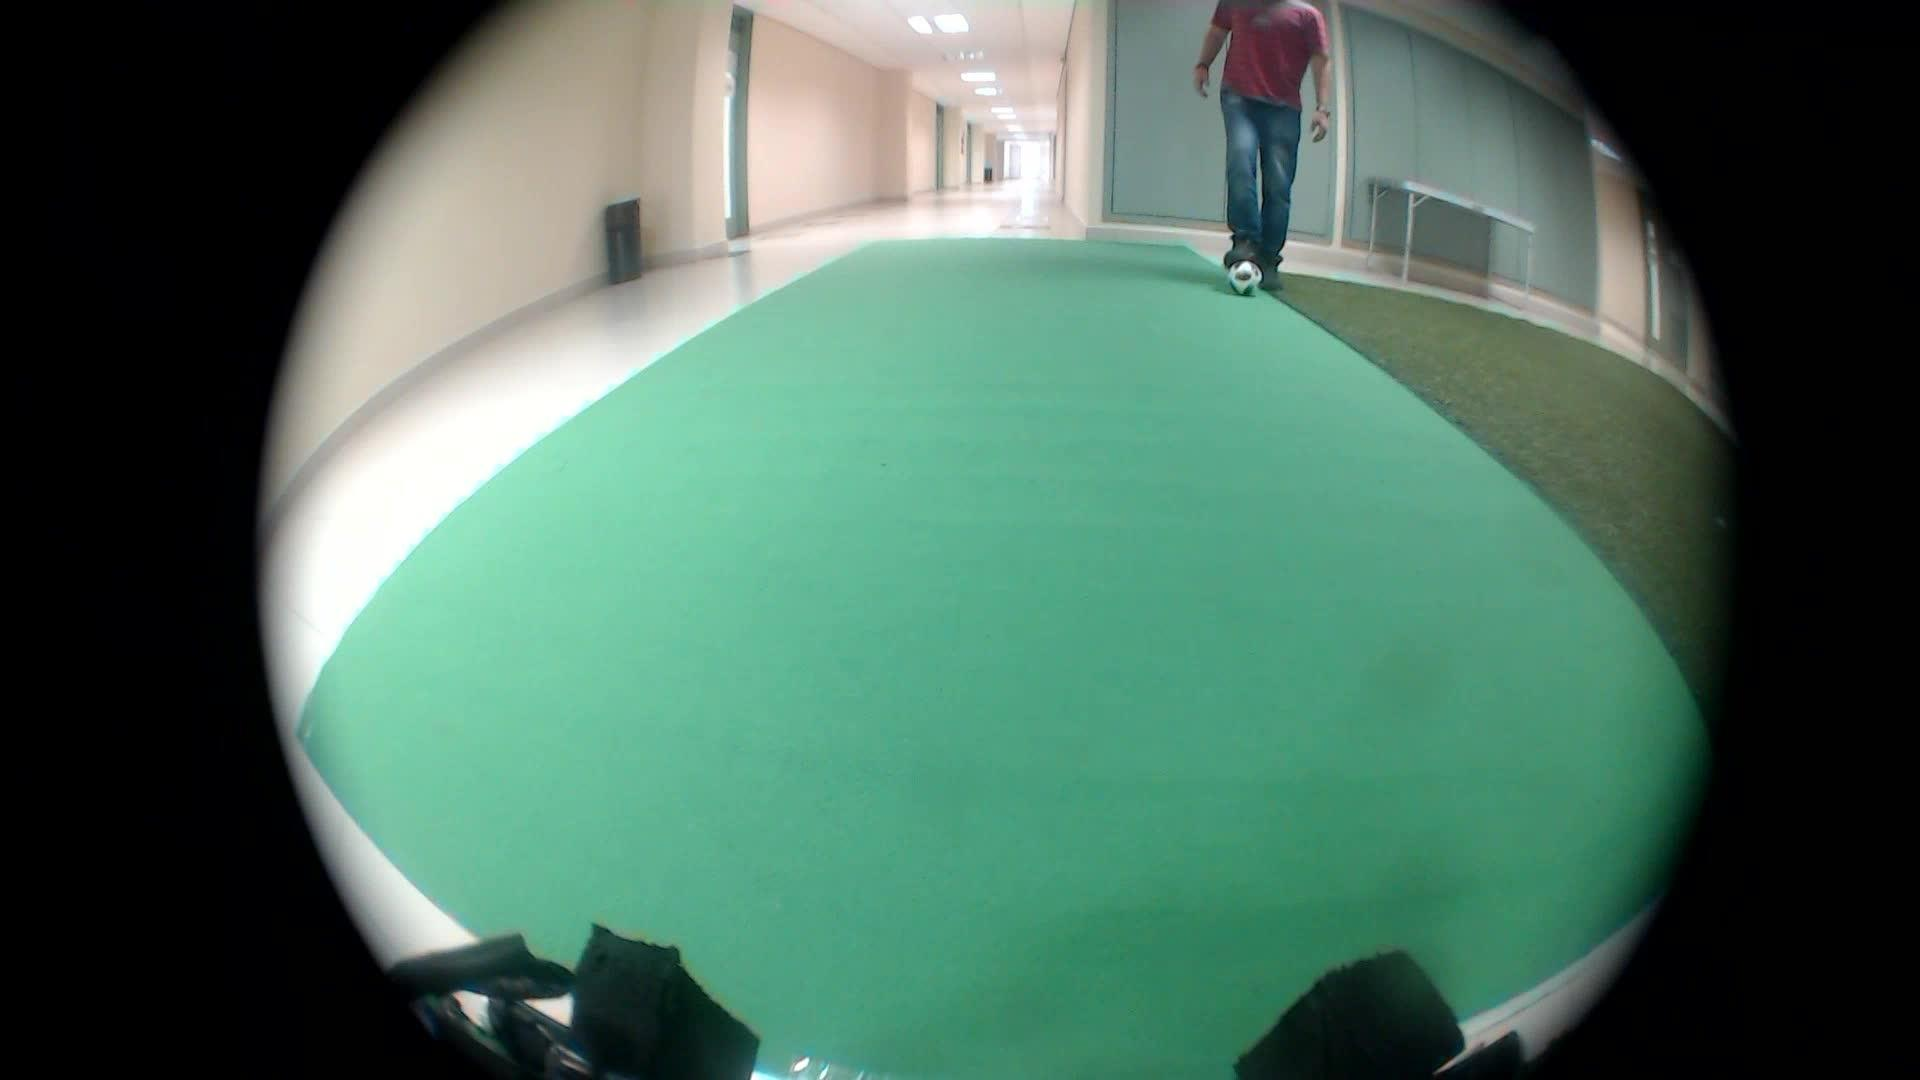ball: (1220, 260, 1259, 306)
